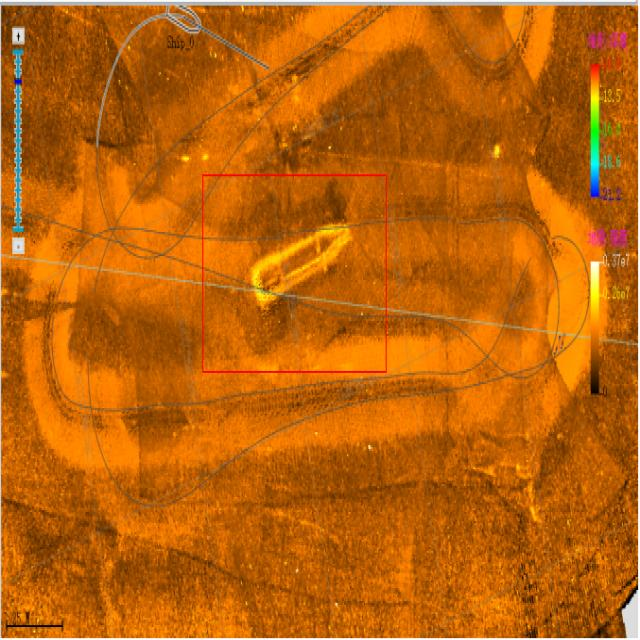ship: (246, 217, 352, 310)
